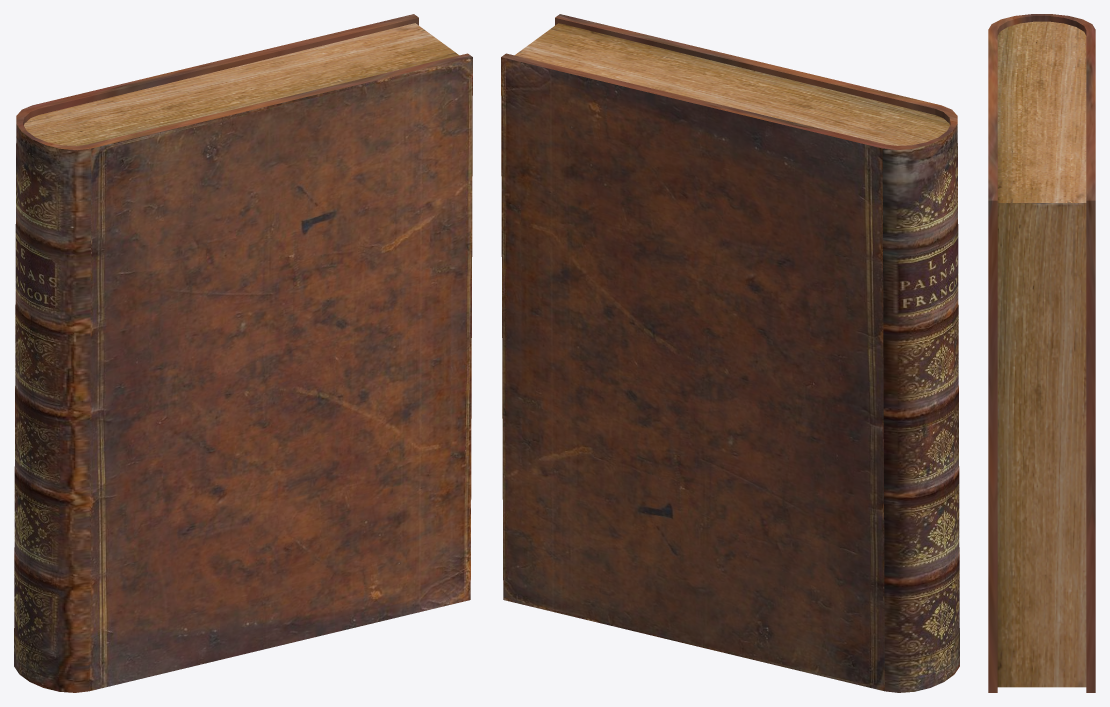
Rendered from SM_Book03.fbx.
3 renders of one model, left to right at view 1: azimuth 30°, elevation 25°; view 2: azimuth 150°, elevation 25°; view 3: azimuth 270°, elevation 25°, orthographic. The views are drawn at different scales.
Parts seen in each view (by area): view 1: SM_Book_HP.007; view 2: SM_Book_HP.007; view 3: SM_Book_HP.007.
Boxes of the visible parts, x1=… form: SM_Book_HP.007: x1=14, y1=14, x2=472, y2=692; SM_Book_HP.007: x1=501, y1=14, x2=959, y2=692; SM_Book_HP.007: x1=988, y1=14, x2=1095, y2=692.
Bounding box in the file's own units: 17.23 × 21.39 × 4.2.
Materials: 2 (2 with a texture image).
